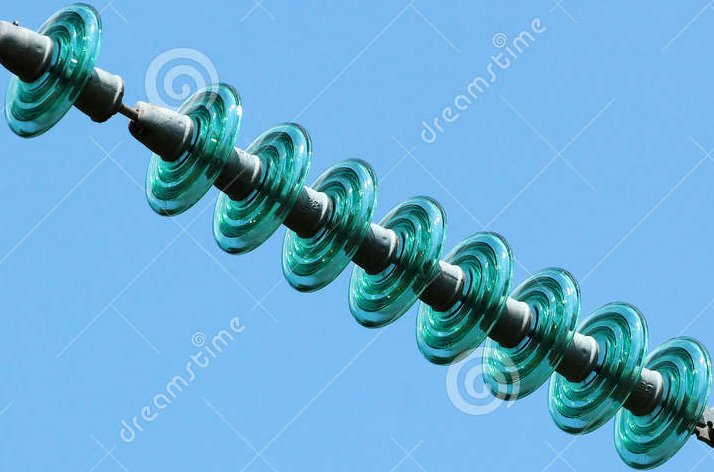gap: (3, 2, 244, 217)
